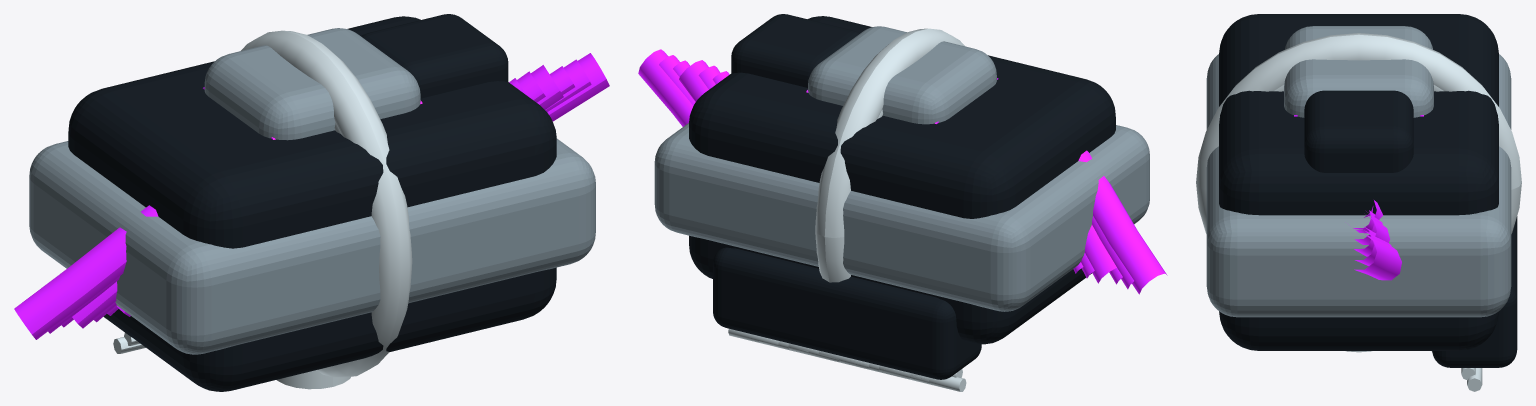
Rendered from electrical_15.glb.
The picture shows the model from 3 angles, left to right: view 1: azimuth 30°, elevation 25°; view 2: azimuth 150°, elevation 25°; view 3: azimuth 270°, elevation 25°; orthographic projection. The views are drawn at different scales.
Parts seen in each view (by area): view 1: asset_mesh__electrical_0791__reference_body, asset_mesh__electrical_0836__controller_case, asset_mesh__electrical_0898__sensor_body, asset_mesh__electrical_0863__functional_ring, asset_mesh__electrical_0898__connector, asset_mesh__electrical_0809__current_path, asset_mesh__electrical_0851__current_path, asset_mesh__electrical_0808__current_path, asset_mesh__electrical_0898__sensor_probe, asset_mesh__electrical_0832__current_path; view 2: asset_mesh__electrical_0791__reference_body, asset_mesh__electrical_0836__controller_case, asset_mesh__electrical_0836__connector_bank, asset_mesh__electrical_0898__sensor_body, asset_mesh__electrical_0863__functional_ring, asset_mesh__electrical_0898__connector, asset_mesh__electrical_0809__current_path, asset_mesh__electrical_0851__current_path, asset_mesh__electrical_0808__current_path, asset_mesh__electrical_0836__pin_1, asset_mesh__electrical_0832__current_path, asset_mesh__electrical_0817__connector_bank; view 3: asset_mesh__electrical_0791__reference_body, asset_mesh__electrical_0836__controller_case, asset_mesh__electrical_0898__connector, asset_mesh__electrical_0863__functional_ring, asset_mesh__electrical_0898__sensor_body, asset_mesh__electrical_0836__connector_bank, asset_mesh__electrical_0809__current_path.
Boxes of the visible parts, left/top/right/bottom form: asset_mesh__electrical_0791__reference_body: left=68, top=16, right=556, bottom=391; asset_mesh__electrical_0836__controller_case: left=29, top=138, right=595, bottom=354; asset_mesh__electrical_0898__sensor_body: left=204, top=28, right=420, bottom=140; asset_mesh__electrical_0863__functional_ring: left=241, top=30, right=412, bottom=377; asset_mesh__electrical_0898__connector: left=361, top=14, right=508, bottom=98; asset_mesh__electrical_0809__current_path: left=14, top=53, right=609, bottom=339; asset_mesh__electrical_0851__current_path: left=72, top=65, right=563, bottom=328; asset_mesh__electrical_0808__current_path: left=48, top=59, right=591, bottom=333; asset_mesh__electrical_0898__sensor_probe: left=277, top=370, right=350, bottom=389; asset_mesh__electrical_0832__current_path: left=94, top=71, right=545, bottom=322; asset_mesh__electrical_0791__reference_body: left=689, top=16, right=1115, bottom=344; asset_mesh__electrical_0836__controller_case: left=654, top=123, right=1149, bottom=311; asset_mesh__electrical_0836__connector_bank: left=713, top=247, right=981, bottom=379; asset_mesh__electrical_0898__sensor_body: left=808, top=26, right=996, bottom=124; asset_mesh__electrical_0863__functional_ring: left=815, top=28, right=964, bottom=282; asset_mesh__electrical_0898__connector: left=731, top=14, right=859, bottom=87; asset_mesh__electrical_0809__current_path: left=638, top=49, right=1167, bottom=294; asset_mesh__electrical_0851__current_path: left=679, top=60, right=1116, bottom=283; asset_mesh__electrical_0808__current_path: left=659, top=55, right=1133, bottom=289; asset_mesh__electrical_0836__pin_1: left=909, top=373, right=966, bottom=391; asset_mesh__electrical_0832__current_path: left=698, top=65, right=1094, bottom=278; asset_mesh__electrical_0817__connector_bank: left=732, top=248, right=939, bottom=299; asset_mesh__electrical_0791__reference_body: left=1219, top=14, right=1498, bottom=350; asset_mesh__electrical_0836__controller_case: left=1206, top=54, right=1511, bottom=317; asset_mesh__electrical_0898__connector: left=1304, top=90, right=1413, bottom=172; asset_mesh__electrical_0863__functional_ring: left=1196, top=33, right=1521, bottom=233; asset_mesh__electrical_0898__sensor_body: left=1284, top=26, right=1433, bottom=117; asset_mesh__electrical_0836__connector_bank: left=1432, top=216, right=1517, bottom=367; asset_mesh__electrical_0809__current_path: left=1354, top=235, right=1401, bottom=280.
Bounding box in the file's own units: 1.73 × 0.9189 × 0.8996.
